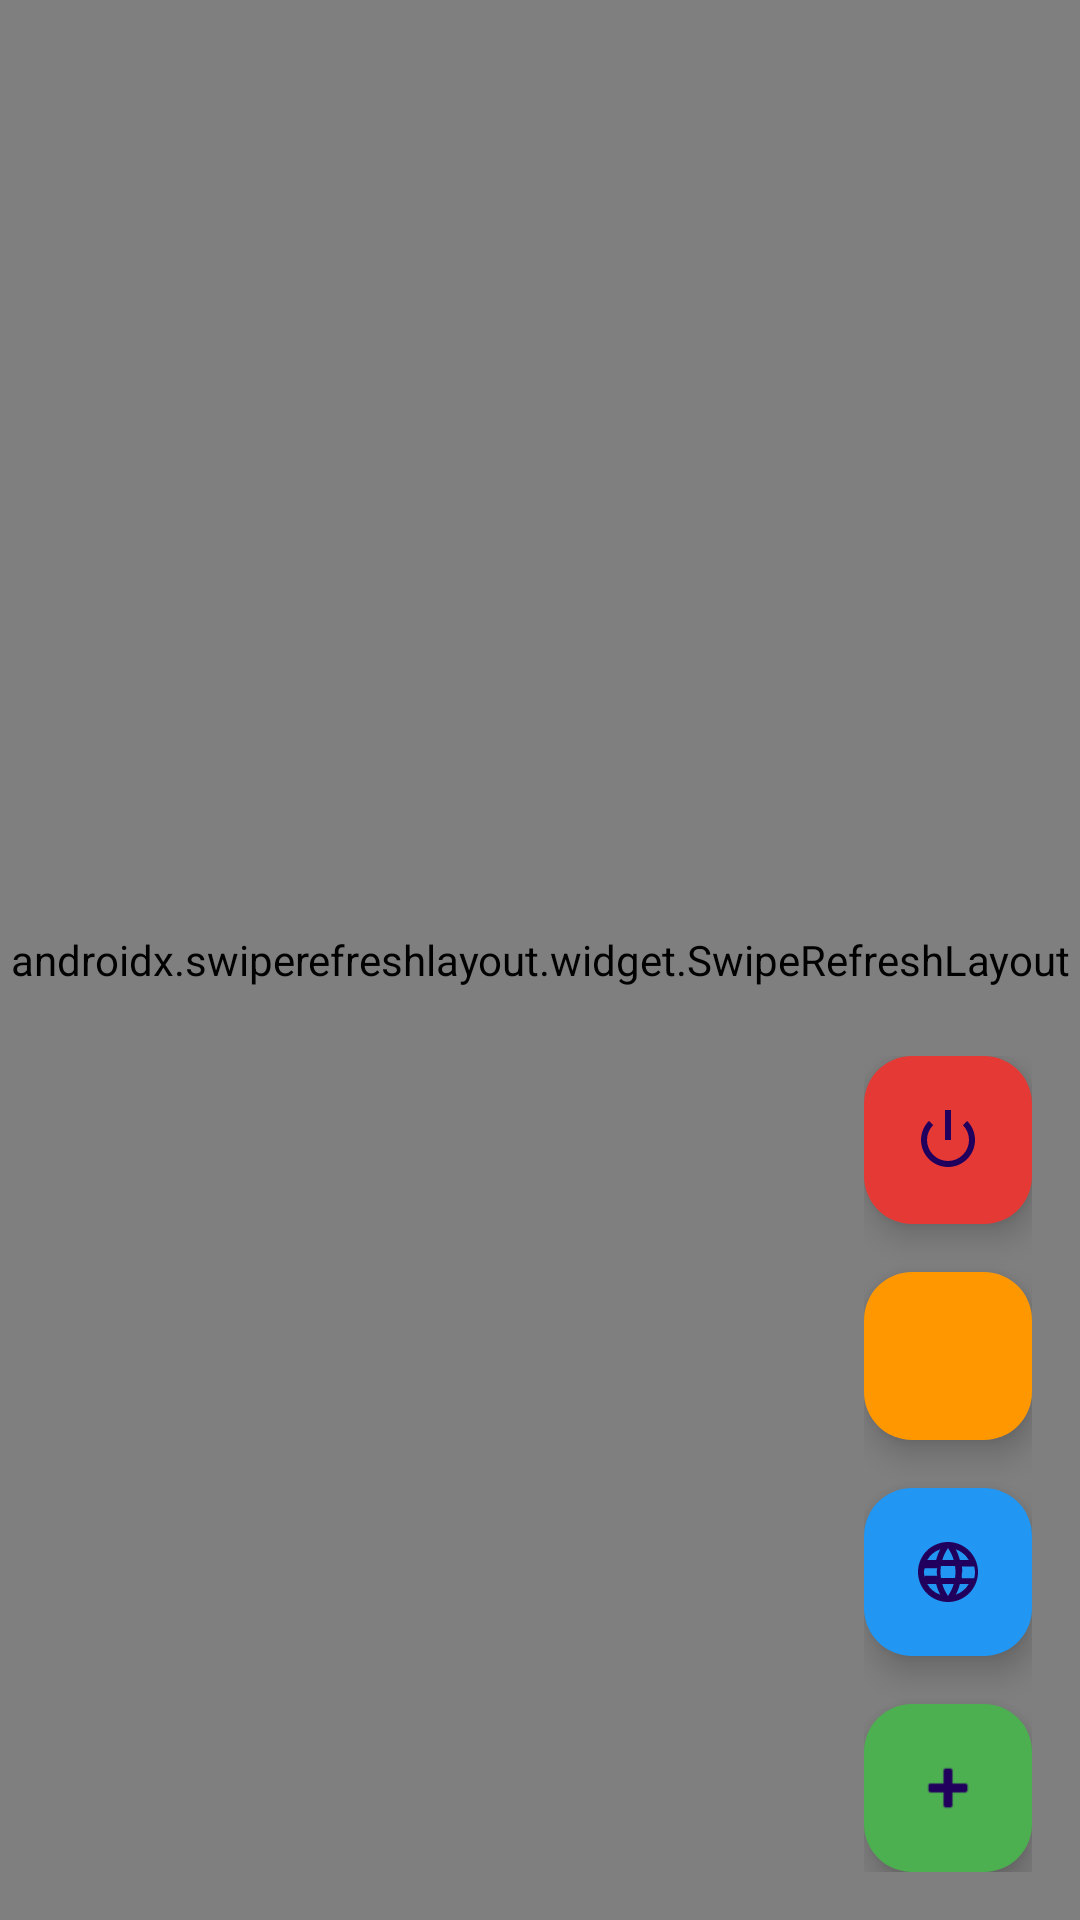

Where to tap for icons on this 1080w x 1920h app screen, as (x=x, y=y):
add: (x=948, y=1788)
language: (x=948, y=1572)
lock power off: (x=948, y=1140)
